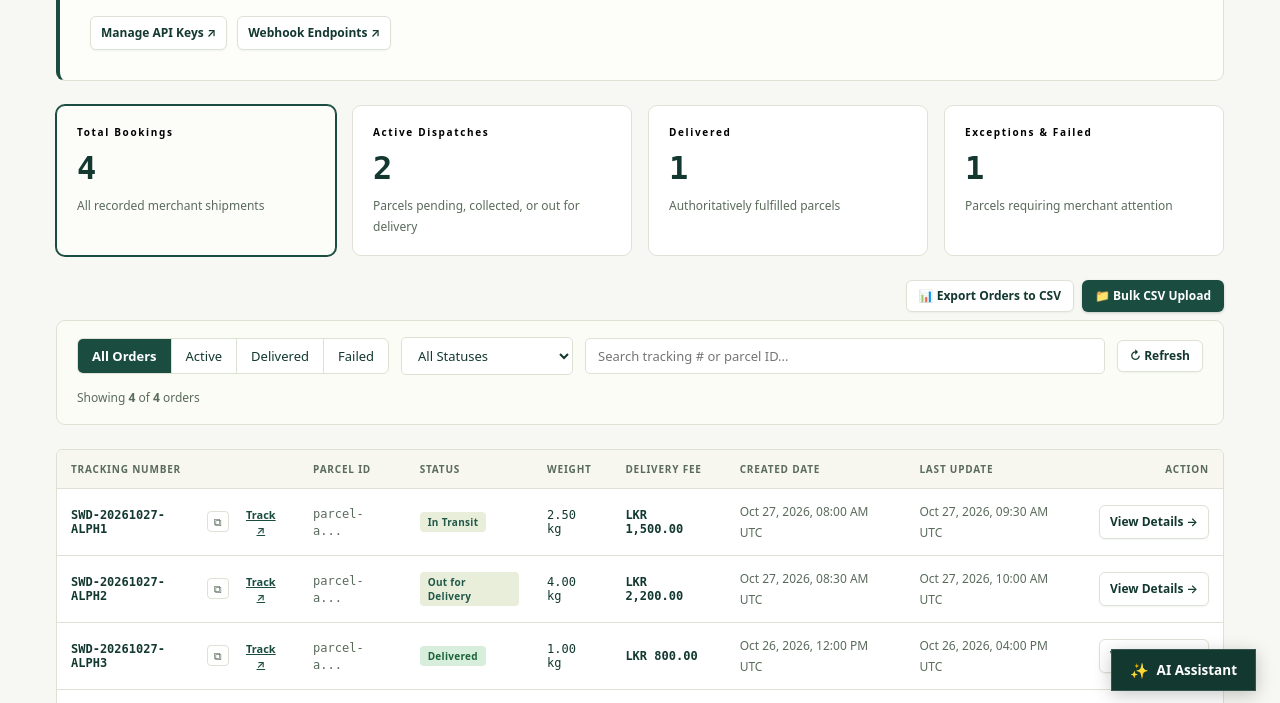
Test: MerchantOrdersDashboardPage › filters orders by tracking number or parcel ID search query
The width and height of the screenshot is (1280, 703).
(page scrolled)
expect the text "SWD-20261027-ALPH1" is shown: met, box [71, 508, 165, 536]
Type "ALPH2" into the search field named "search orders".
click(845, 356); type("ALPH2")  # box [585, 338, 1105, 374]
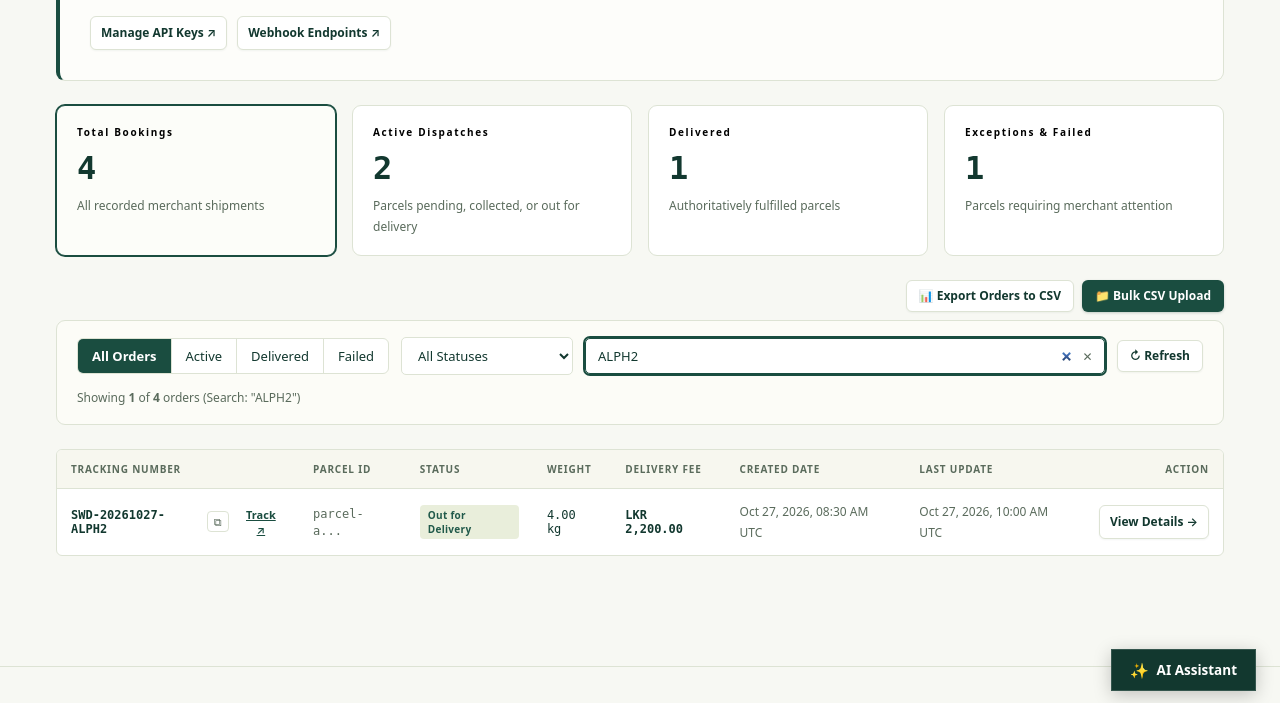
expect the text "SWD-20261027-ALPH2" is shown: met, box [71, 508, 165, 536]
expect the text "SWD-20261027-ALPH1" is gone: met
expect the text "SWD-20261027-ALPH3" is gone: met
// Clear search
Click the button named "clear search query".
click(1088, 356)  # box [1079, 343, 1097, 368]
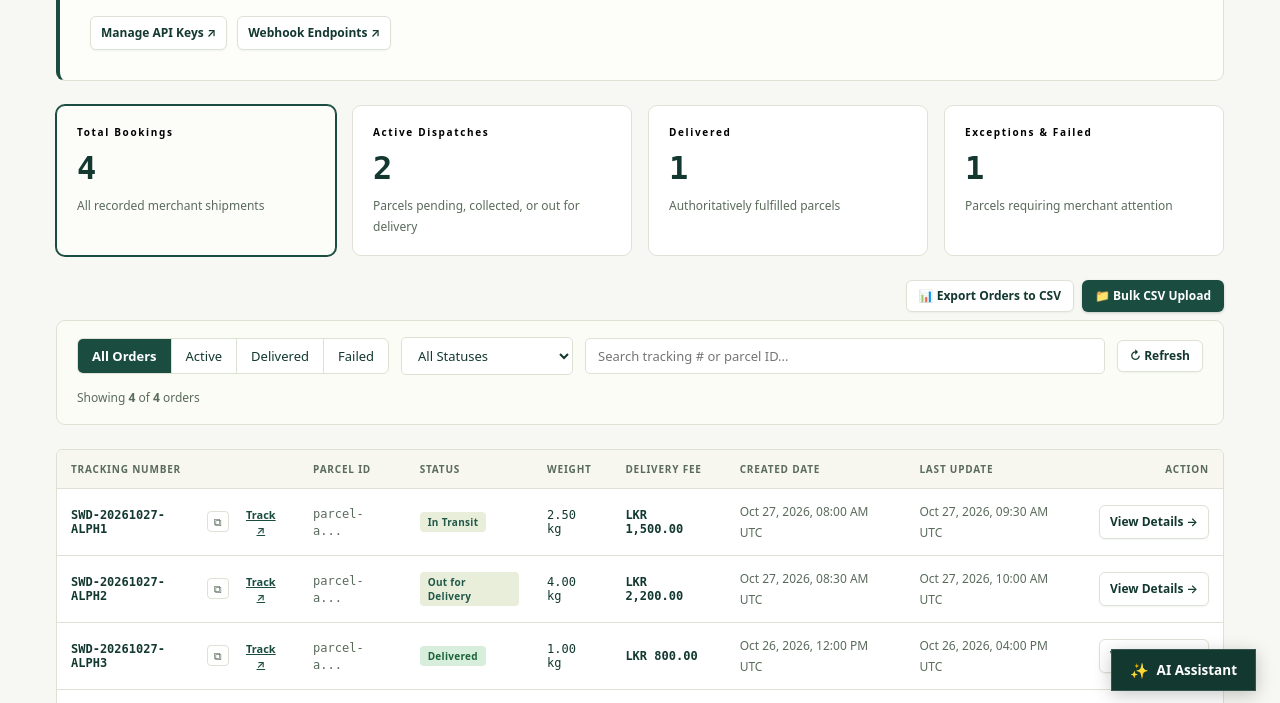
expect the text "SWD-20261027-ALPH2" is shown: met, box [71, 575, 165, 603]
expect the text "SWD-20261027-ALPH1" is shown: met, box [71, 508, 165, 536]
